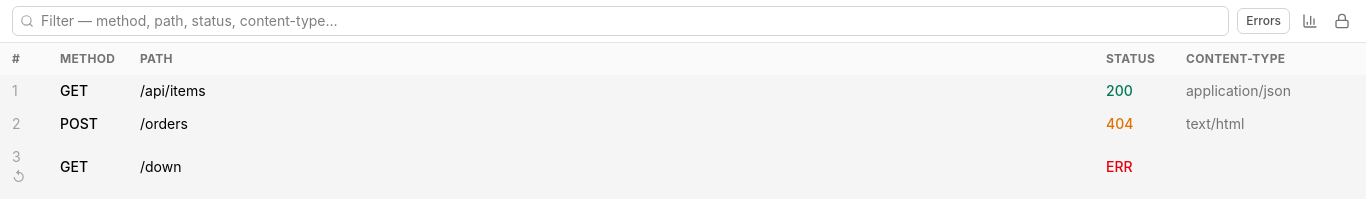
TrafficTable › filters by text and by errors-only, with a match count
The image size is (1366, 199).
In the field named "Filter traffic": (621, 21) x1=12 y1=6 x2=1229 y2=36, type "orders"
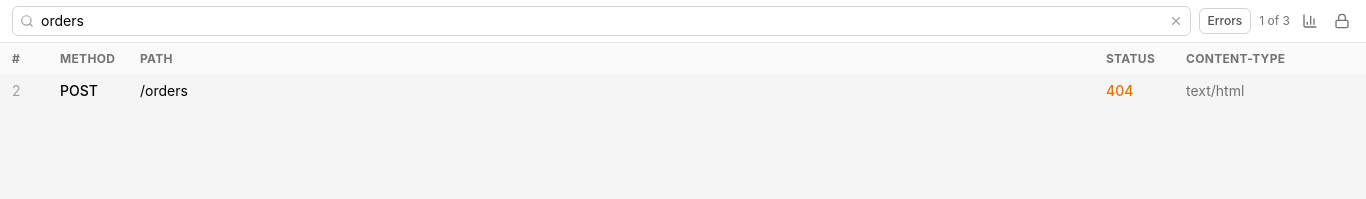
Expected: the text "1 of 3" is shown, x1=1259 y1=13 x2=1290 y2=29
Click the button named "Clear filter": (1176, 21) x1=1166 y1=12 x2=1184 y2=30
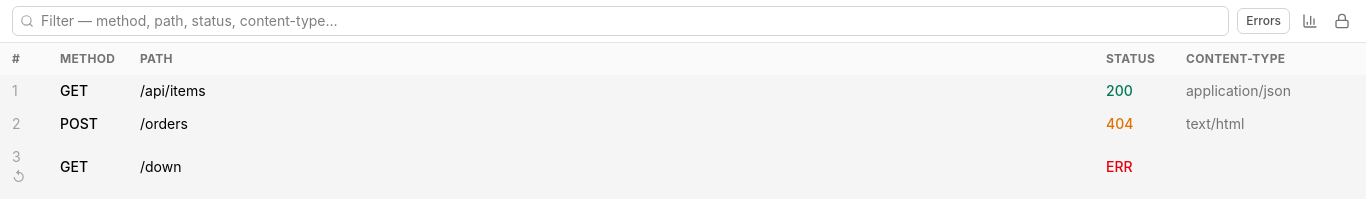
Click the button "Errors": (1264, 21) x1=1237 y1=8 x2=1290 y2=34
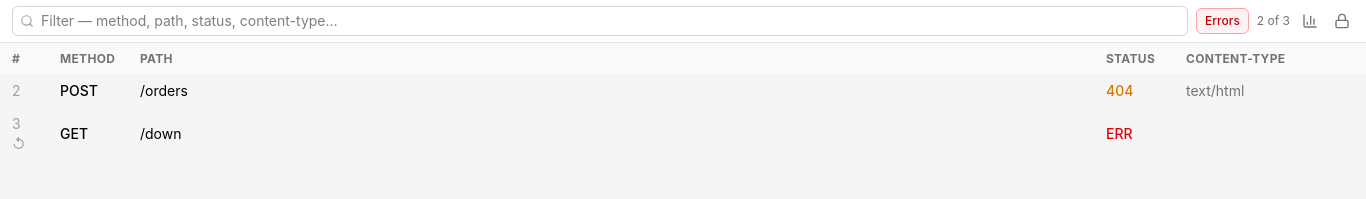
In the field named "Filter traffic": (600, 21) x1=12 y1=6 x2=1188 y2=36, type "nothing"
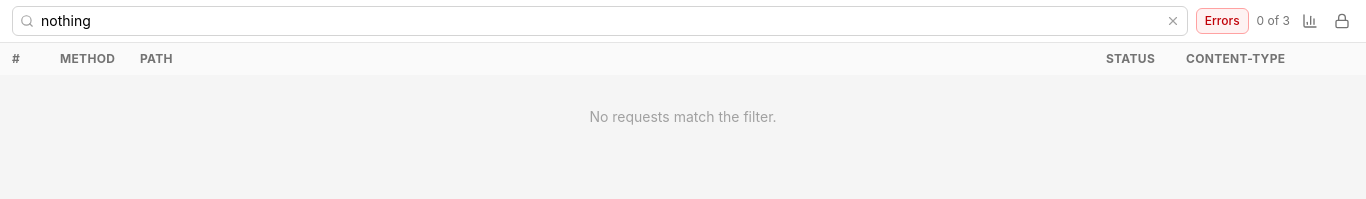
Expected: the text "No requests match the filter." is shown, x1=589 y1=108 x2=777 y2=125
